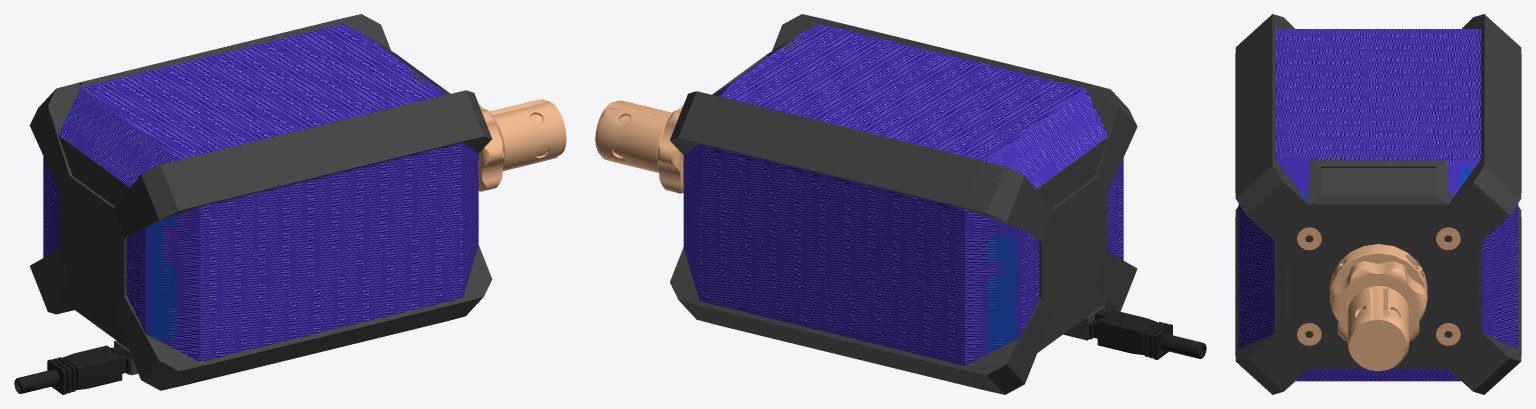
File: motor.glb
3 renders of one model, left to right at view 1: azimuth 30°, elevation 25°; view 2: azimuth 150°, elevation 25°; view 3: azimuth 270°, elevation 25°, orthographic.
Visible parts, largest first — view 1: motor_a; view 2: motor_a; view 3: motor_a.
Boxes of the visible parts, left/top/right/bottom form: motor_a: left=14, top=14, right=566, bottom=394; motor_a: left=595, top=14, right=1206, bottom=394; motor_a: left=1235, top=14, right=1521, bottom=394.
Size of the model in its own units: 0.0402 by 0.0155 by 0.0175.
1 material, 1 textured.
